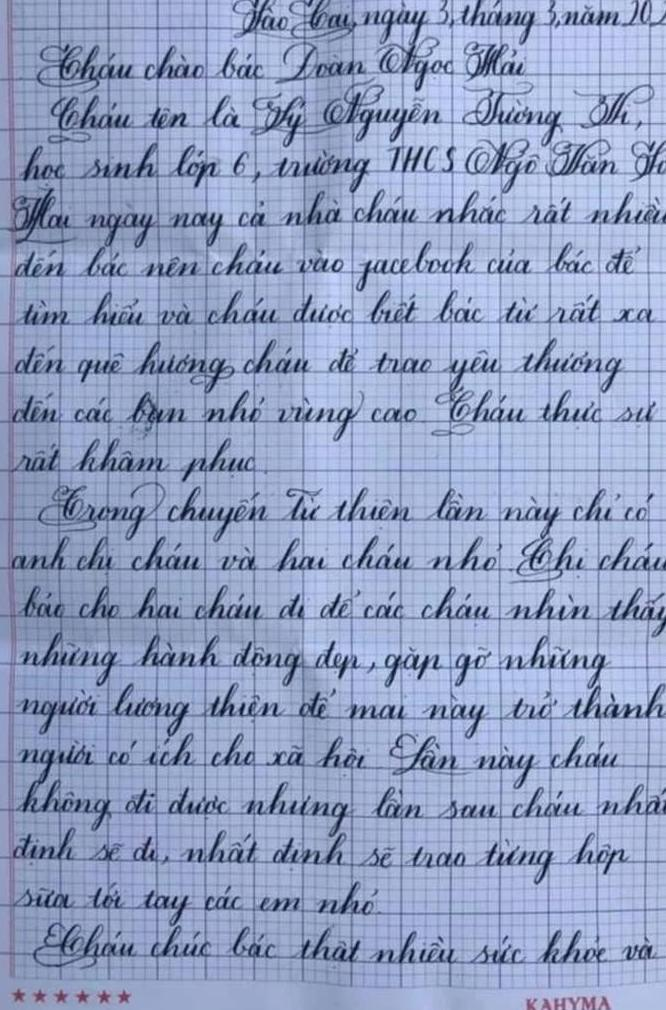text: (7, 182, 666, 250), (12, 775, 666, 842), (44, 79, 660, 149), (14, 134, 666, 199), (34, 478, 657, 546), (9, 384, 664, 447), (9, 332, 630, 396), (7, 530, 666, 590), (7, 826, 634, 889), (5, 236, 642, 298), (12, 680, 666, 740), (14, 582, 666, 642), (14, 629, 616, 692), (28, 918, 661, 976), (12, 729, 624, 787), (32, 31, 534, 99), (6, 286, 663, 334), (229, 0, 666, 45), (13, 877, 385, 919), (8, 432, 271, 488), (521, 990, 616, 1010)
